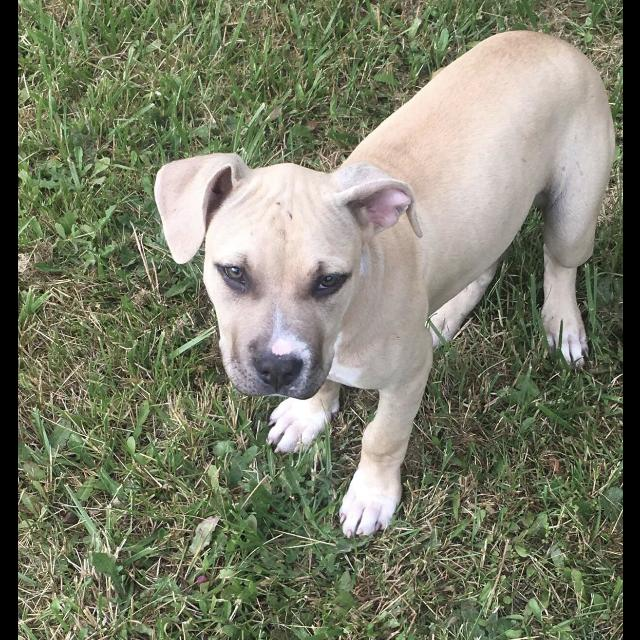am_pit_bull_terrier: (153, 31, 617, 540)
